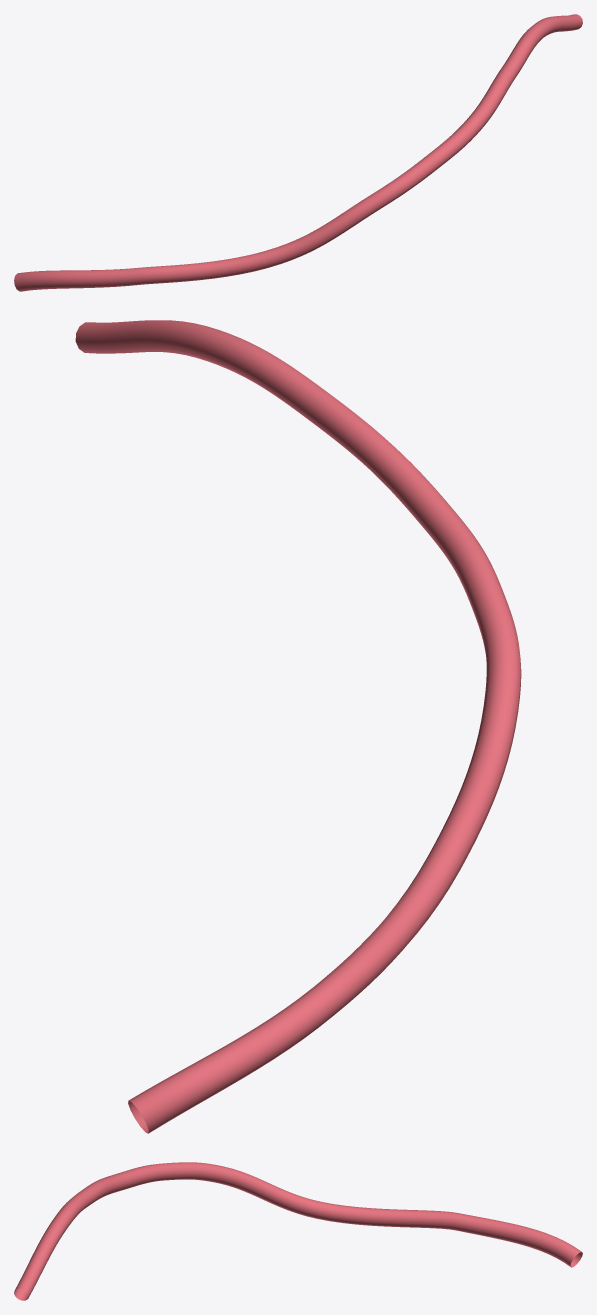
The picture shows the model from 3 angles, top to bottom: view 1: azimuth 90°, elevation 25°; view 2: azimuth 150°, elevation 25°; view 3: azimuth 270°, elevation 25°; orthographic projection. The views are drawn at different scales.
Parts seen in each view (by area): view 1: ZA_47e1436f4504caaf; view 2: ZA_47e1436f4504caaf; view 3: ZA_47e1436f4504caaf.
Part boxes in pixels (bbox=[...]): ZA_47e1436f4504caaf: bbox=[14, 14, 582, 291]; ZA_47e1436f4504caaf: bbox=[75, 320, 521, 1133]; ZA_47e1436f4504caaf: bbox=[14, 1162, 582, 1300].
Bounding box in the file's own units: 0.0455 × 0.02 × 0.0647.
